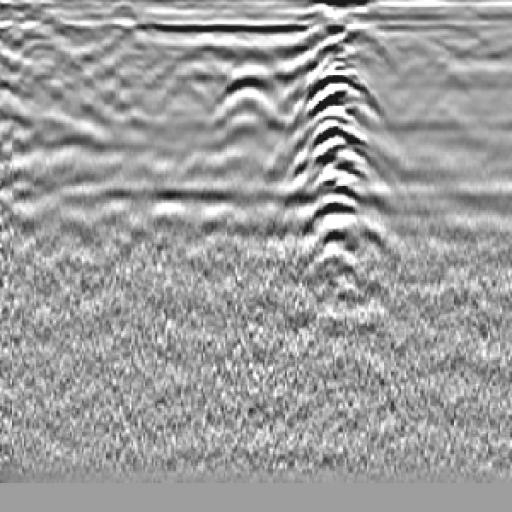metalic: (285, 24, 382, 303)
nonmetalic: (201, 56, 304, 146)
